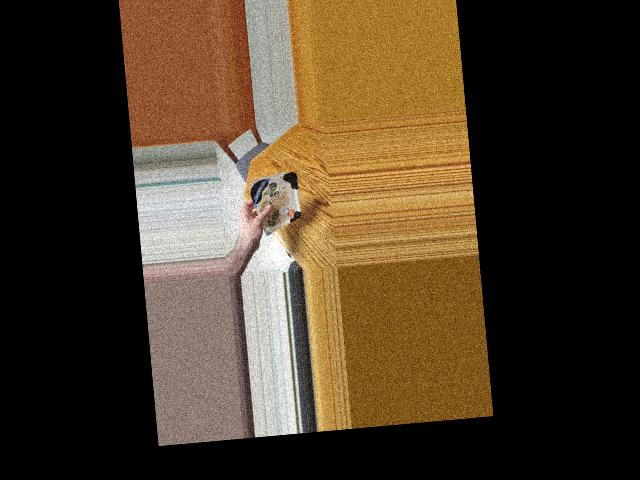cheese: (256, 170, 297, 231)
